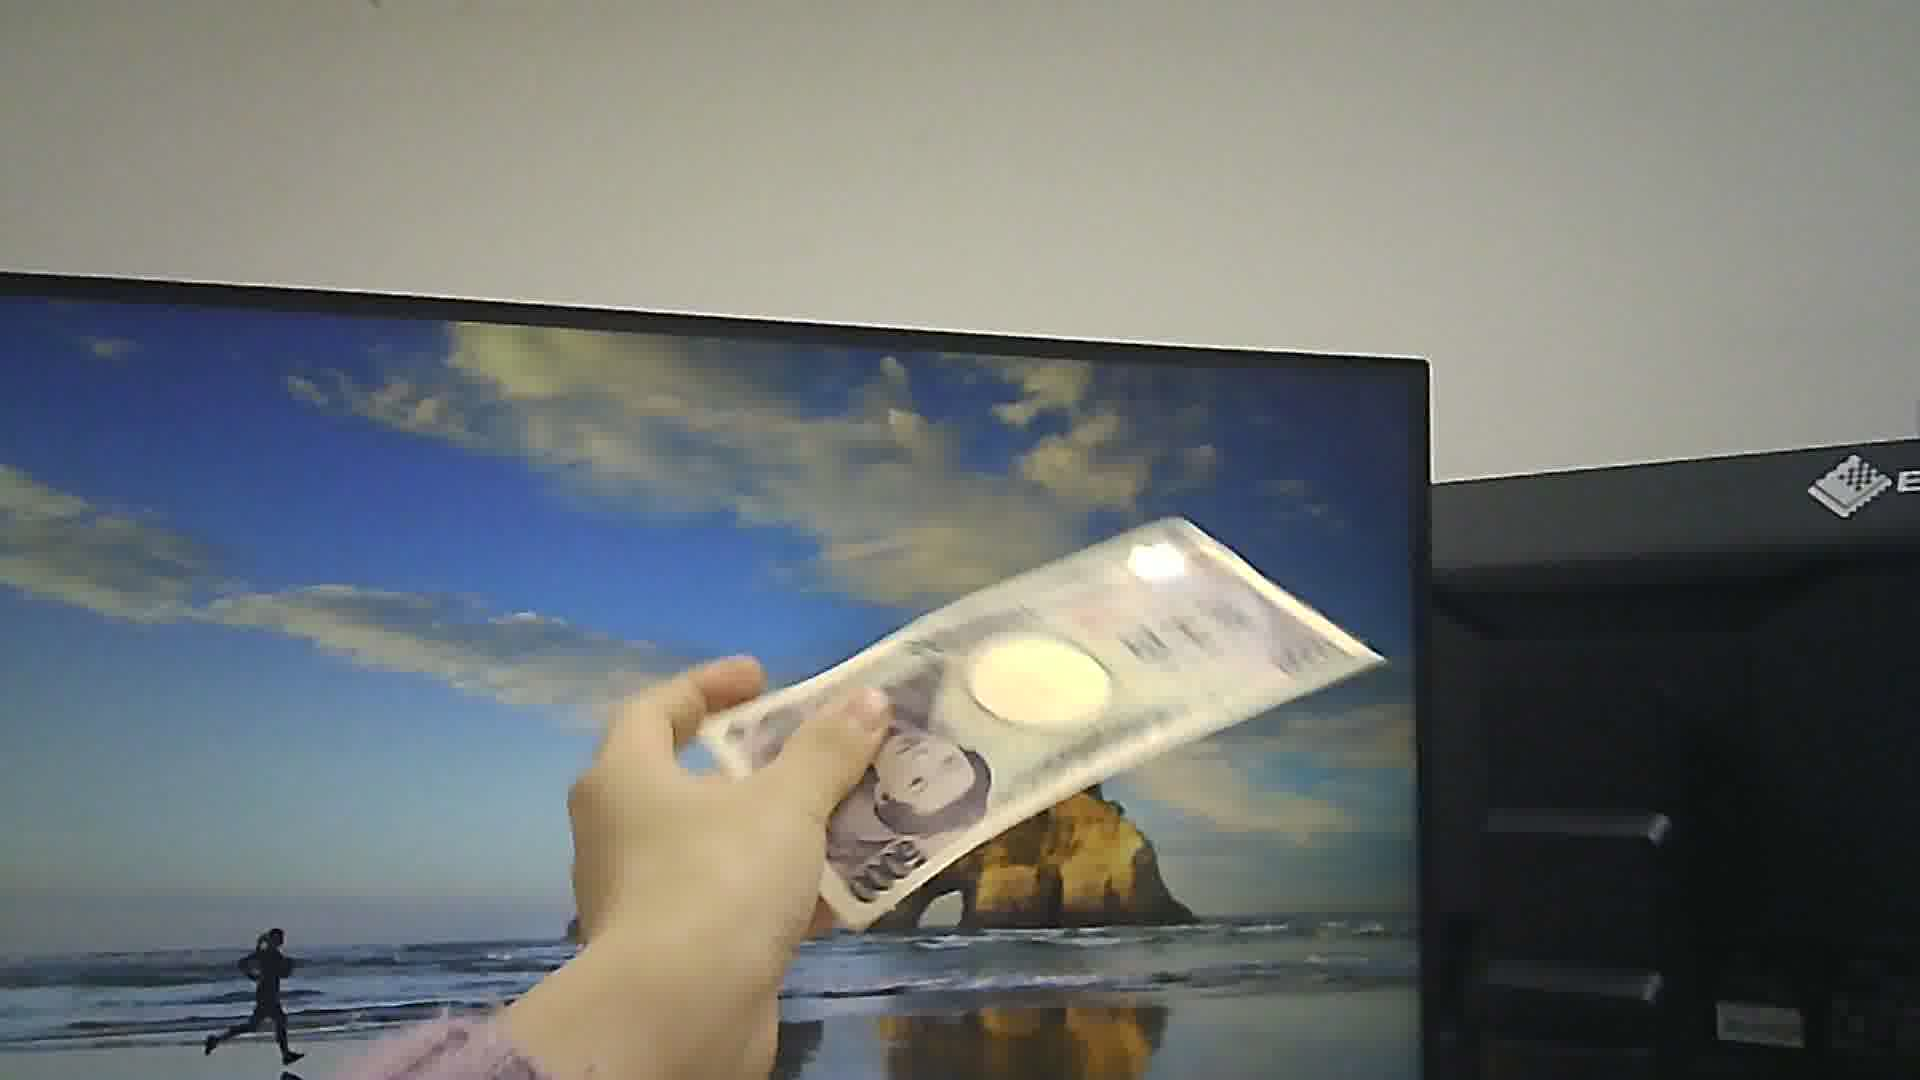5,000 Yen: (696, 487, 1389, 919)
